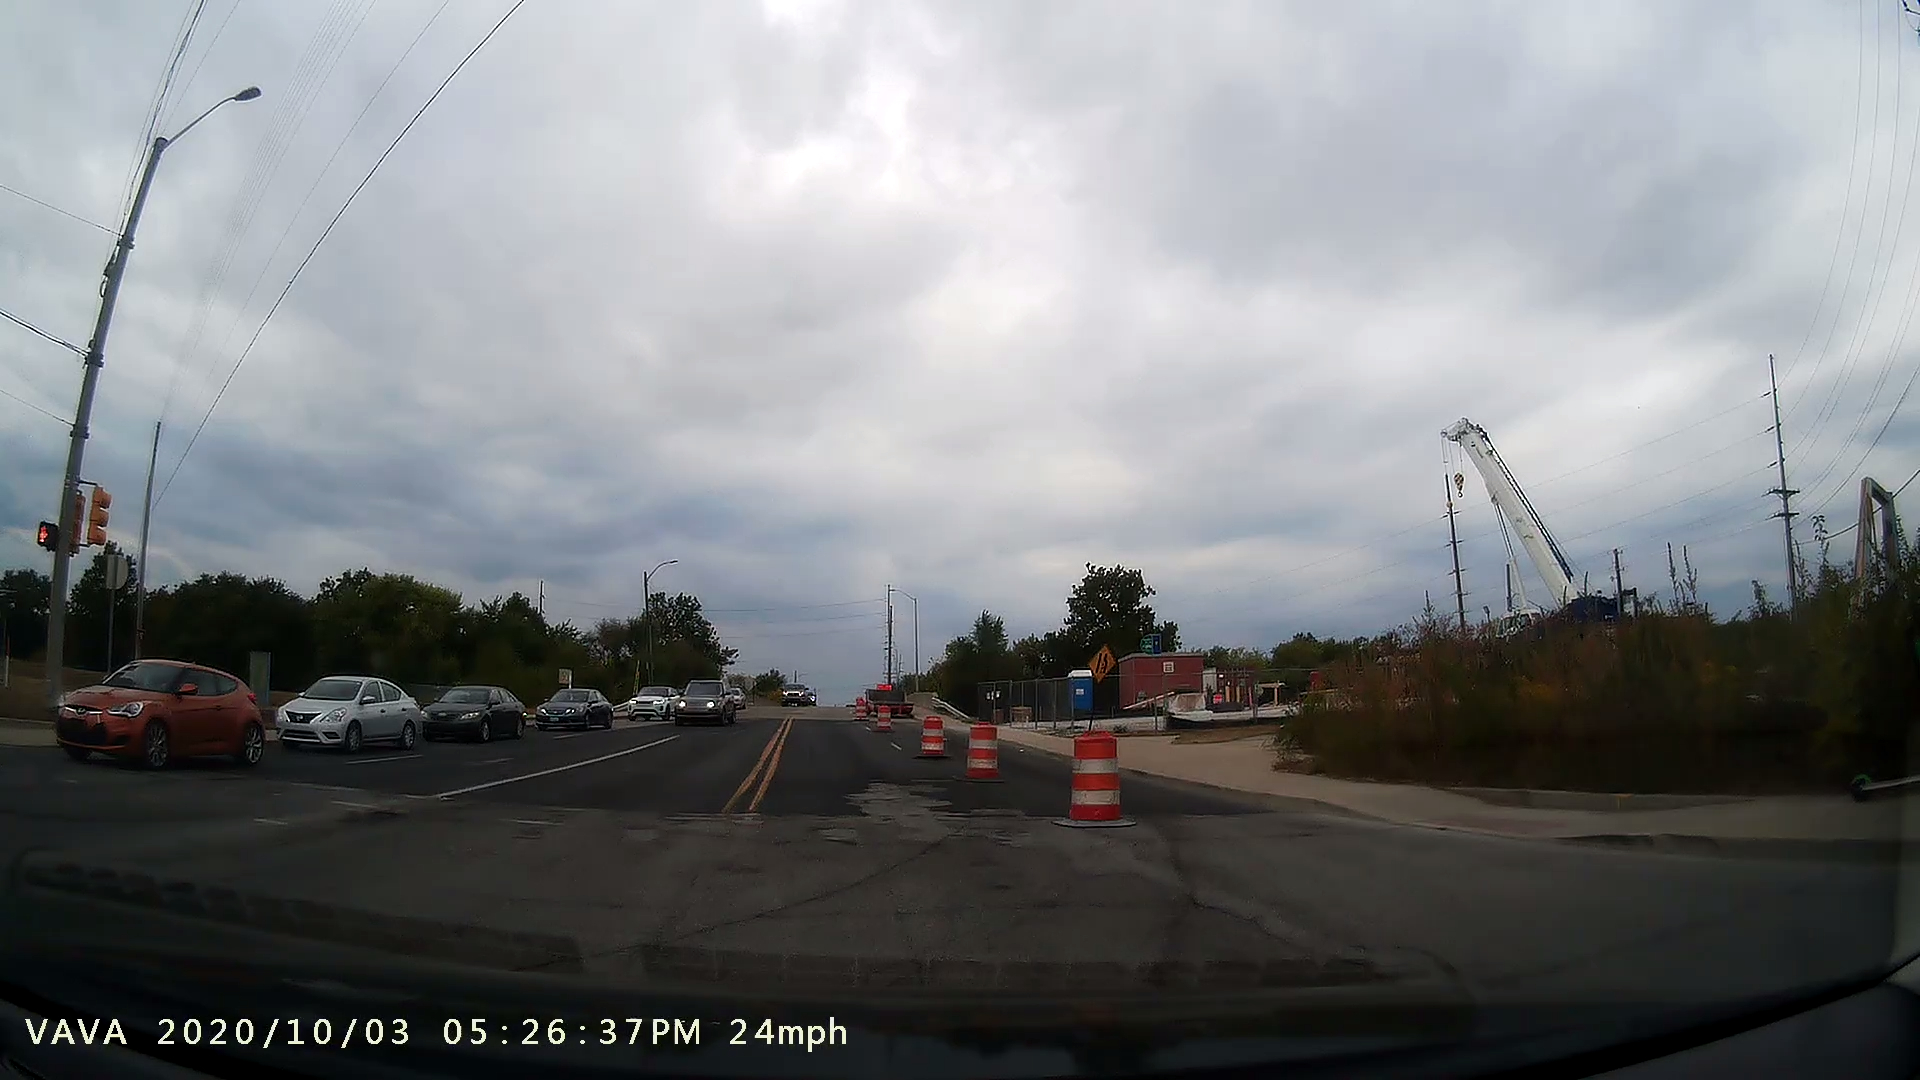const_barrel: (1035, 719, 1142, 833), (957, 709, 1009, 783), (909, 700, 953, 764)
